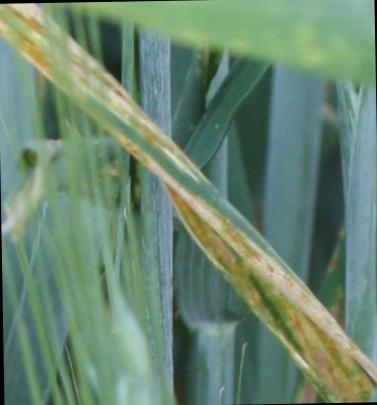Wheat: (156, 164, 377, 405)
